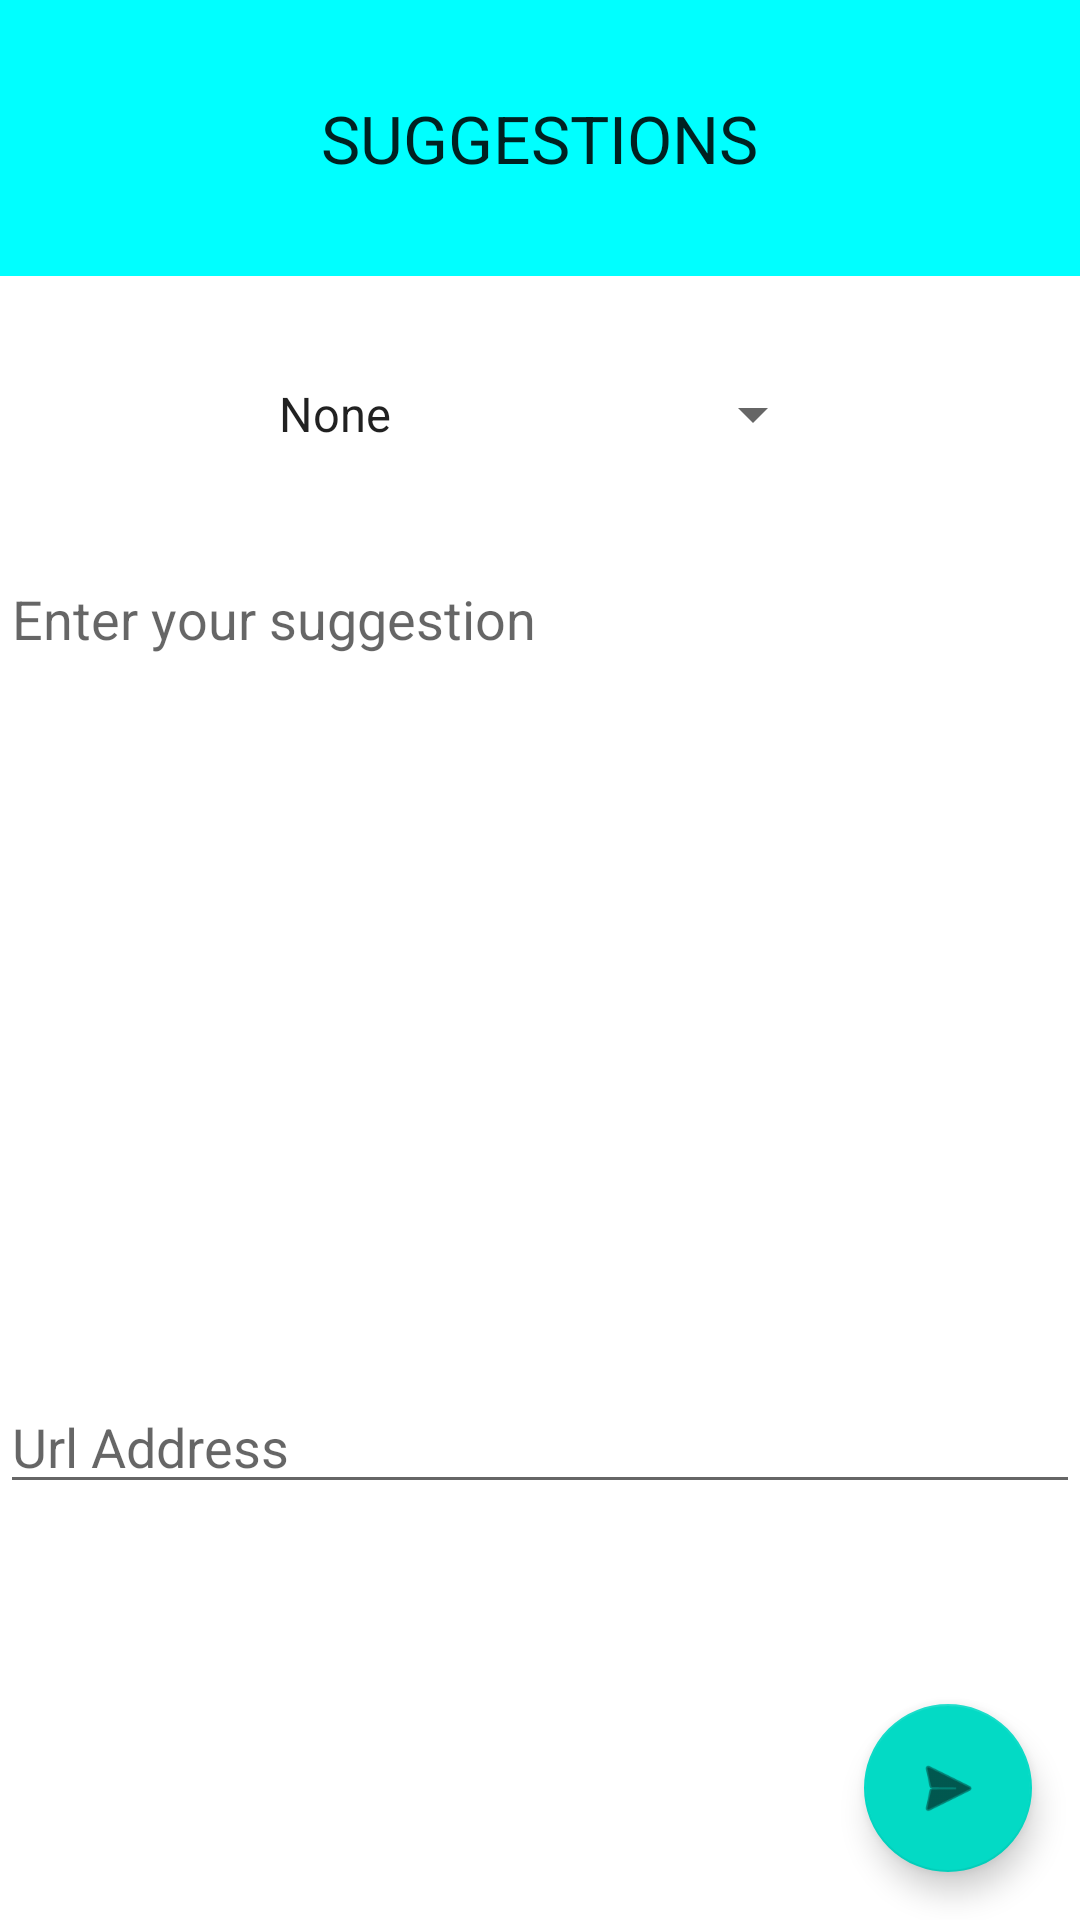

Icons on this 1080x1920 Android screen, each with the point to tap as (x,y):
send: (948,1788)
